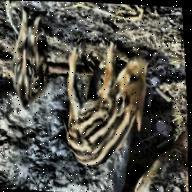boar: (56, 32, 168, 174)
